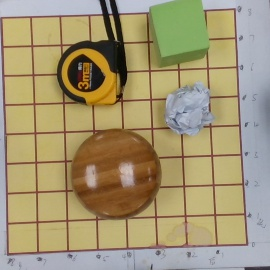chess: (70, 130, 162, 219)
